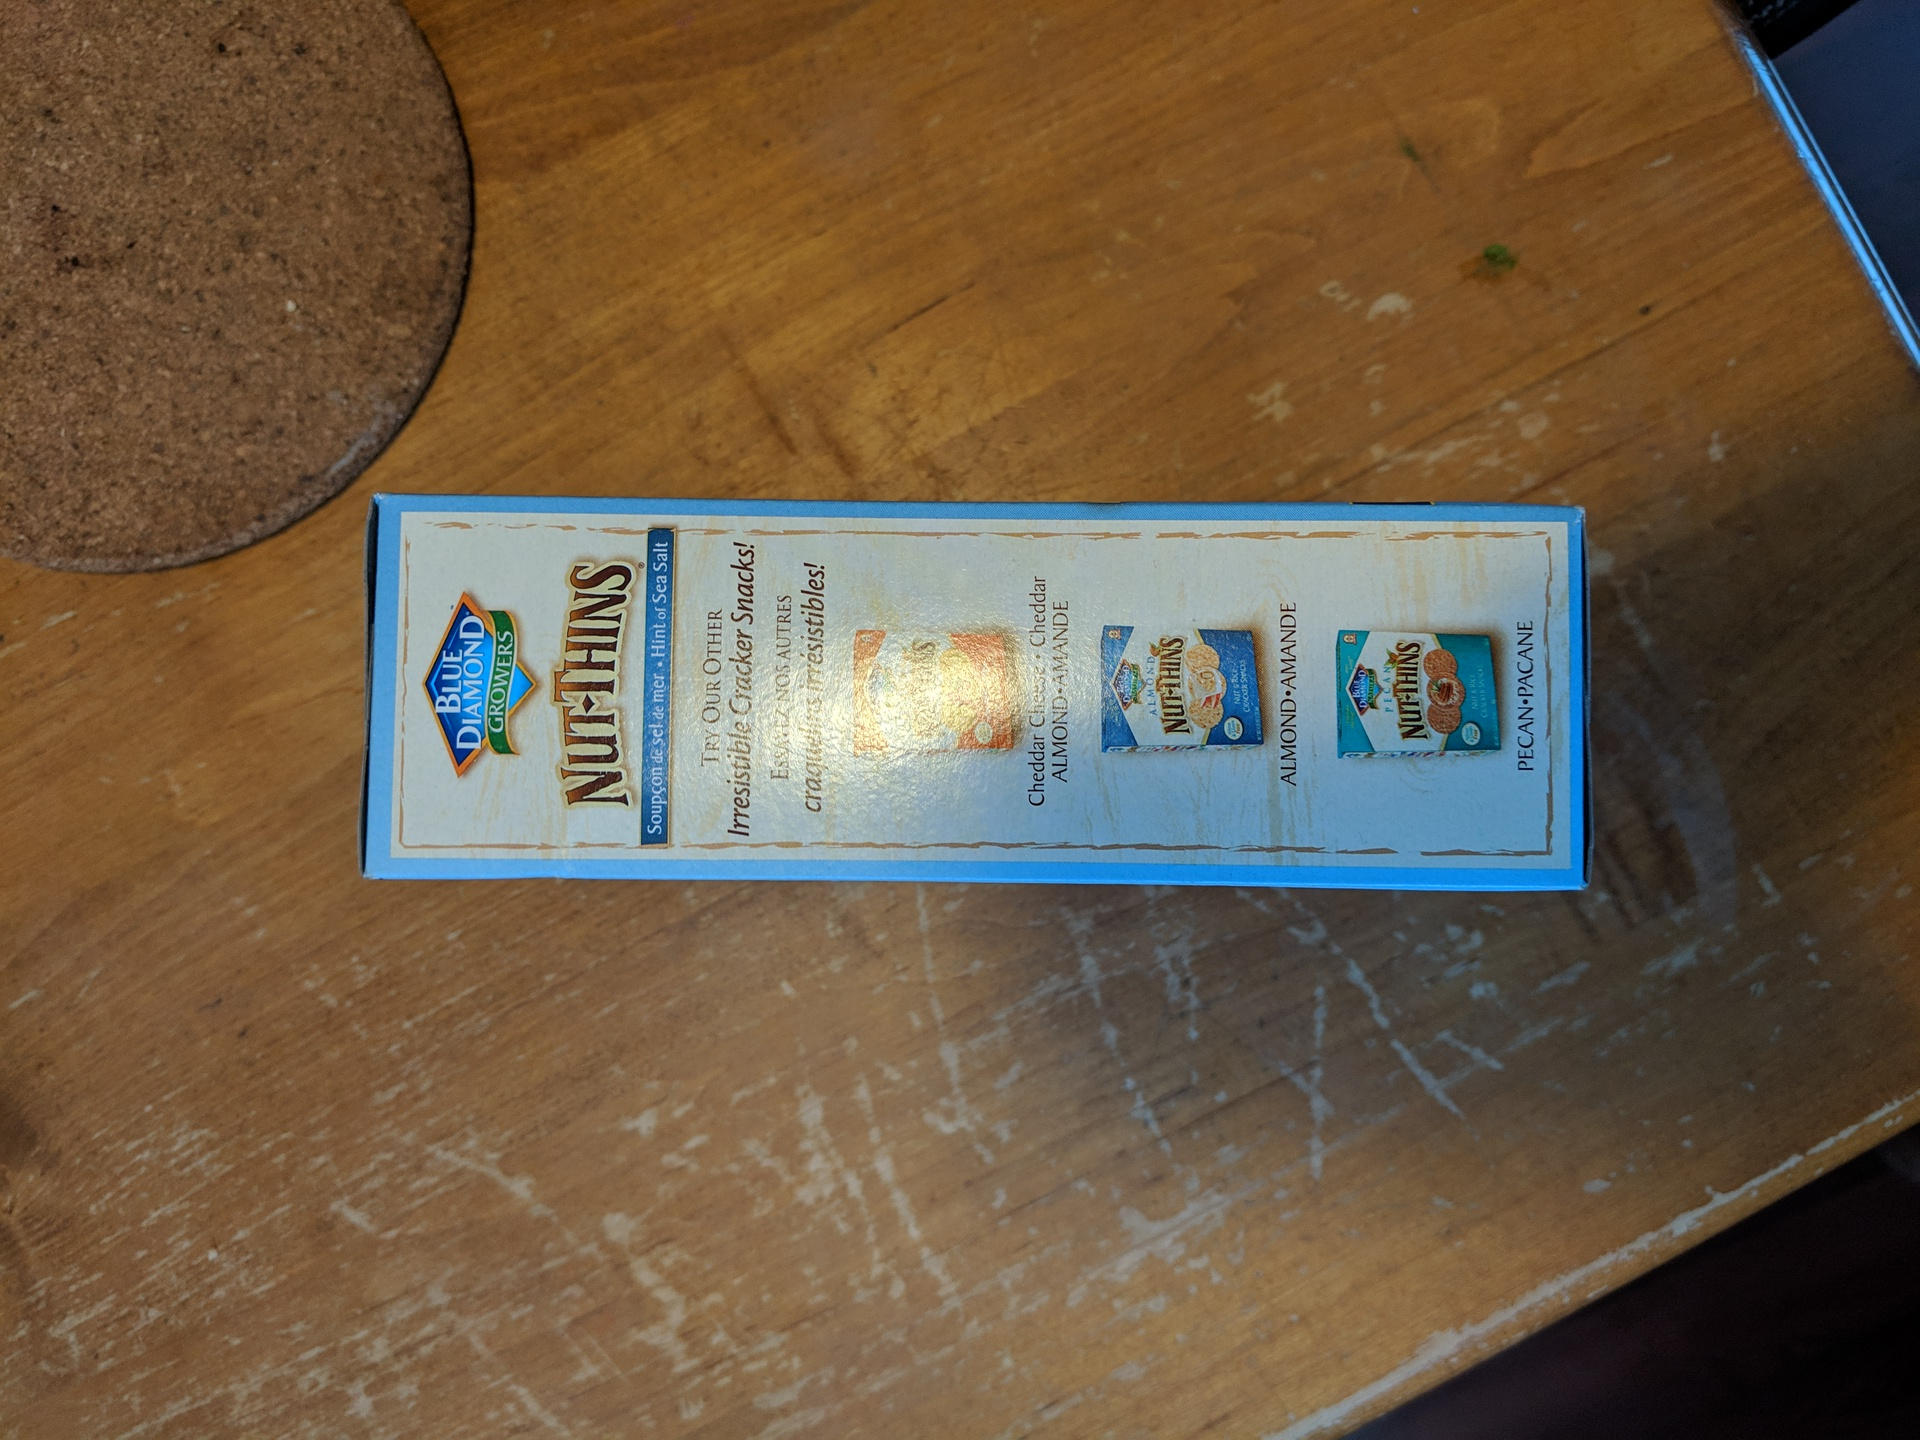blue_diamond_nut_thins_almond_seasalt: (367, 495, 1584, 894)
